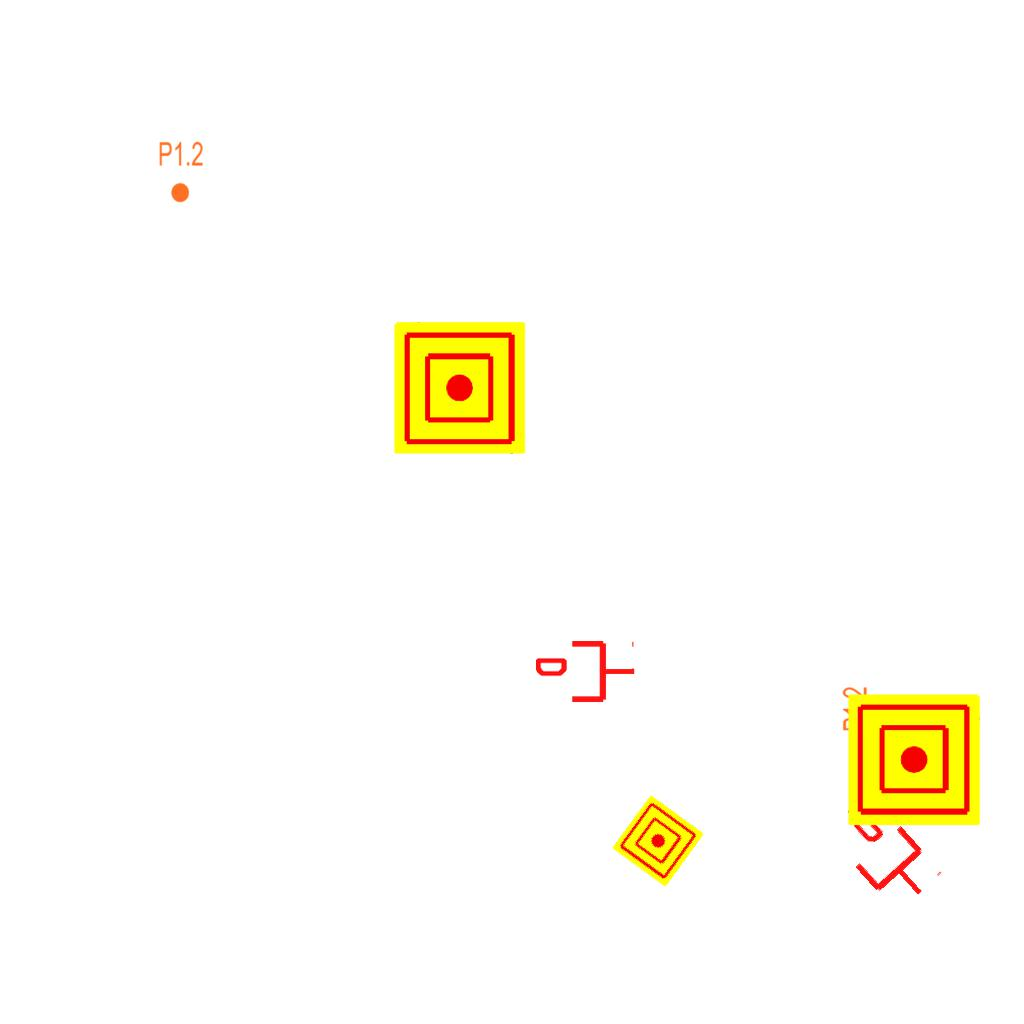Datenanschluss_einfach: (828, 796, 947, 918), (536, 637, 636, 706)
Downlight_LED_Einbauleuchten_Flur: (841, 686, 905, 732), (158, 140, 204, 204)
NAM-Nichtautomatischer_Melder: (394, 322, 526, 454), (848, 694, 980, 826), (611, 794, 705, 888)
